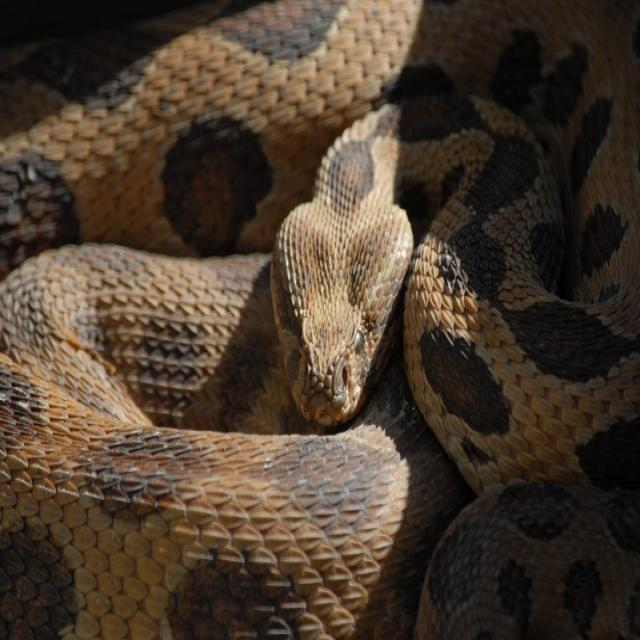Snake: (0, 9, 638, 639)
